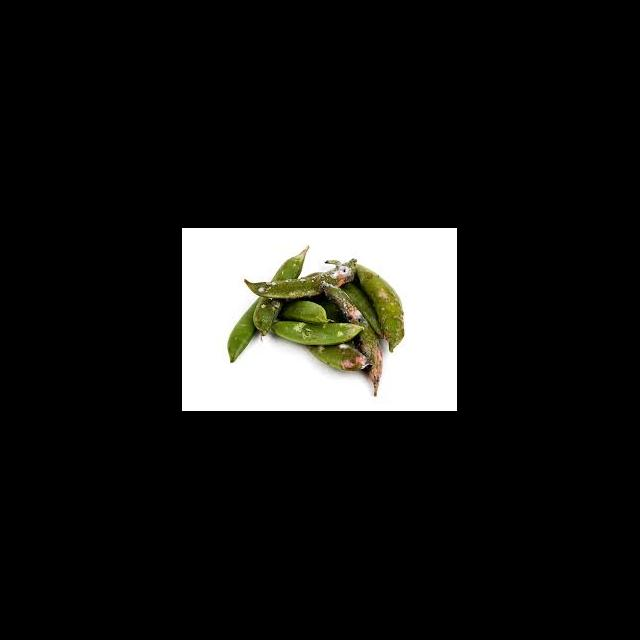food_waste: (212, 236, 432, 412)
